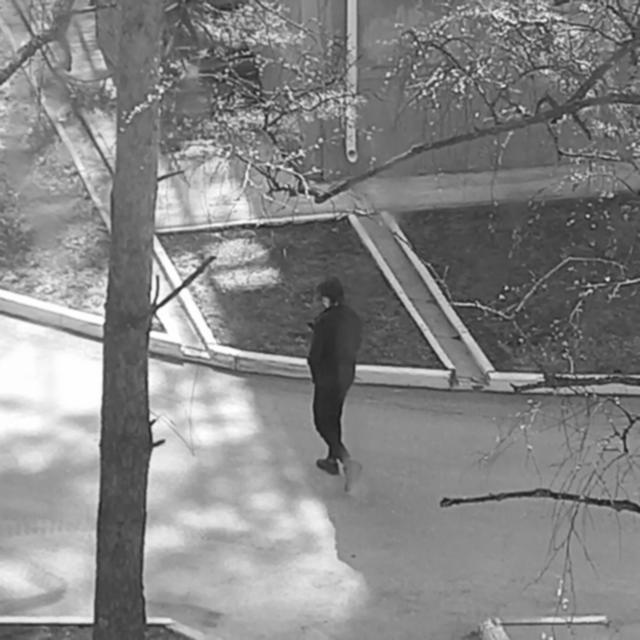Invader: (304, 274, 364, 492)
